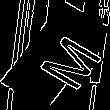M_NW: (16, 22, 94, 88)
